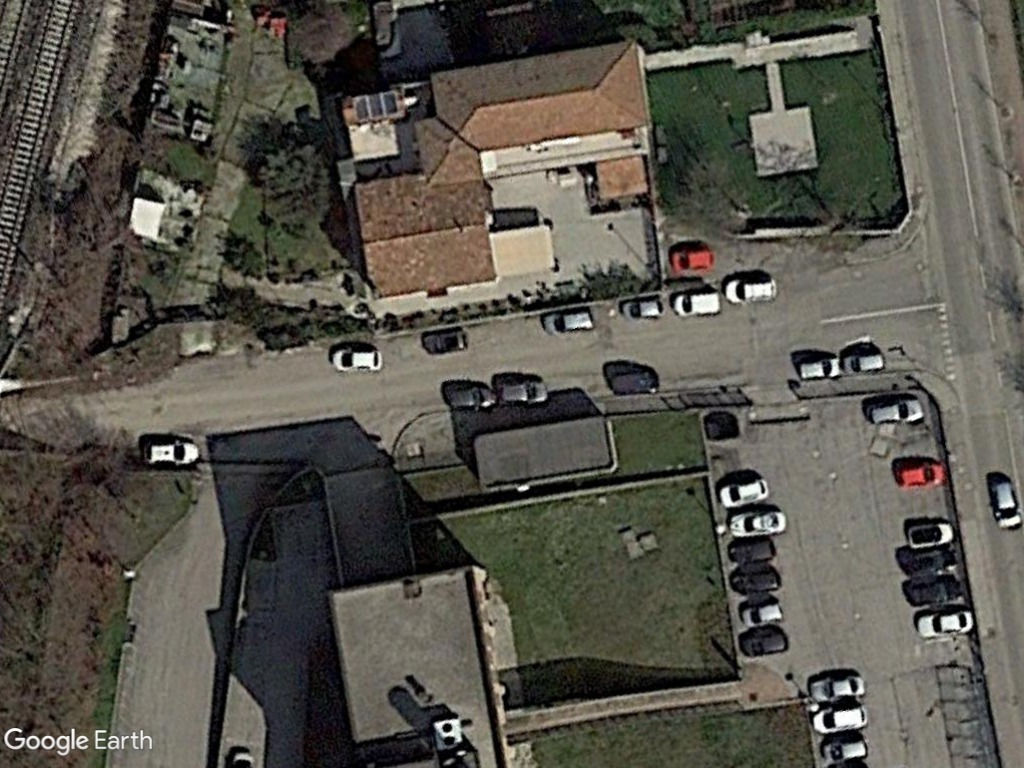car: (985, 472, 1024, 533), (911, 606, 976, 641), (807, 702, 873, 736), (805, 671, 868, 704), (725, 507, 789, 539), (138, 438, 203, 469), (889, 456, 947, 490), (861, 396, 924, 427), (714, 475, 771, 509), (719, 275, 783, 305), (902, 518, 956, 551), (669, 288, 726, 319), (327, 345, 385, 375), (663, 246, 721, 276), (493, 379, 554, 407), (538, 310, 600, 337), (816, 734, 871, 763), (616, 294, 670, 323), (793, 355, 846, 384), (737, 597, 786, 628), (839, 350, 891, 376)
other: (604, 365, 662, 397), (727, 563, 781, 597), (440, 382, 499, 413), (734, 626, 791, 657), (418, 324, 468, 357), (723, 536, 779, 563)
